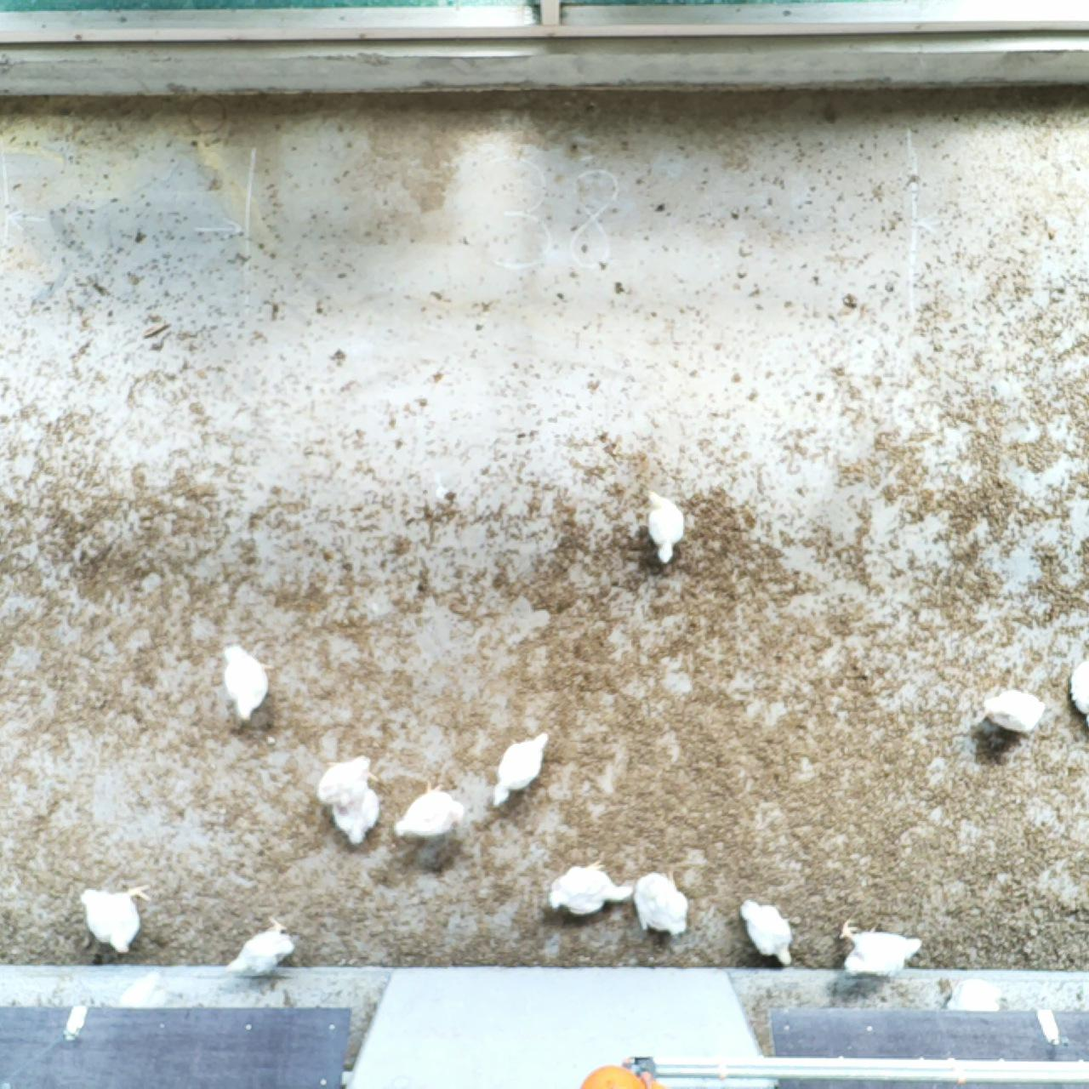chicken: (77, 877, 155, 957), (836, 914, 925, 980), (544, 854, 634, 918), (486, 727, 552, 808), (390, 778, 467, 845), (221, 914, 296, 982), (219, 639, 275, 722), (737, 895, 798, 969), (970, 683, 1049, 740), (633, 867, 693, 939), (639, 486, 691, 567), (314, 751, 381, 813), (329, 784, 383, 846), (1067, 644, 1089, 732)
